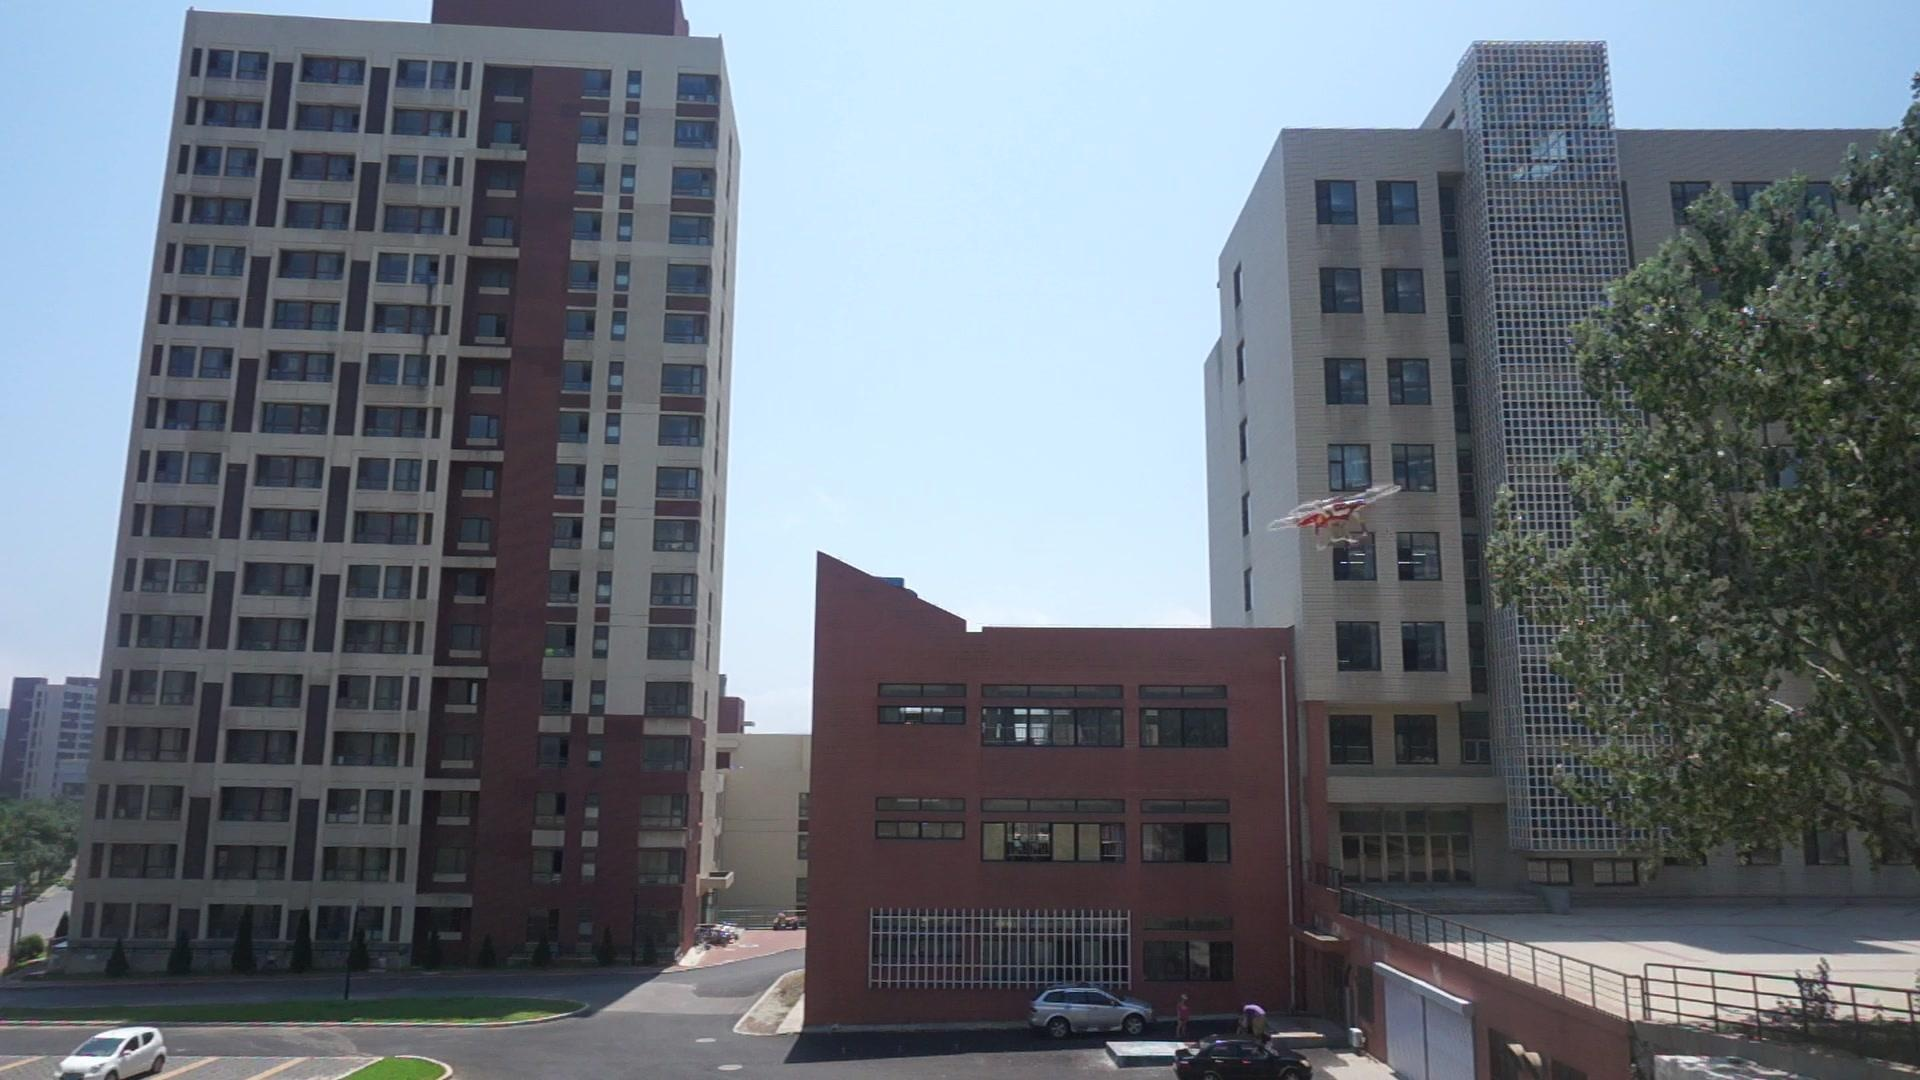UAV: (1269, 484, 1402, 553)
